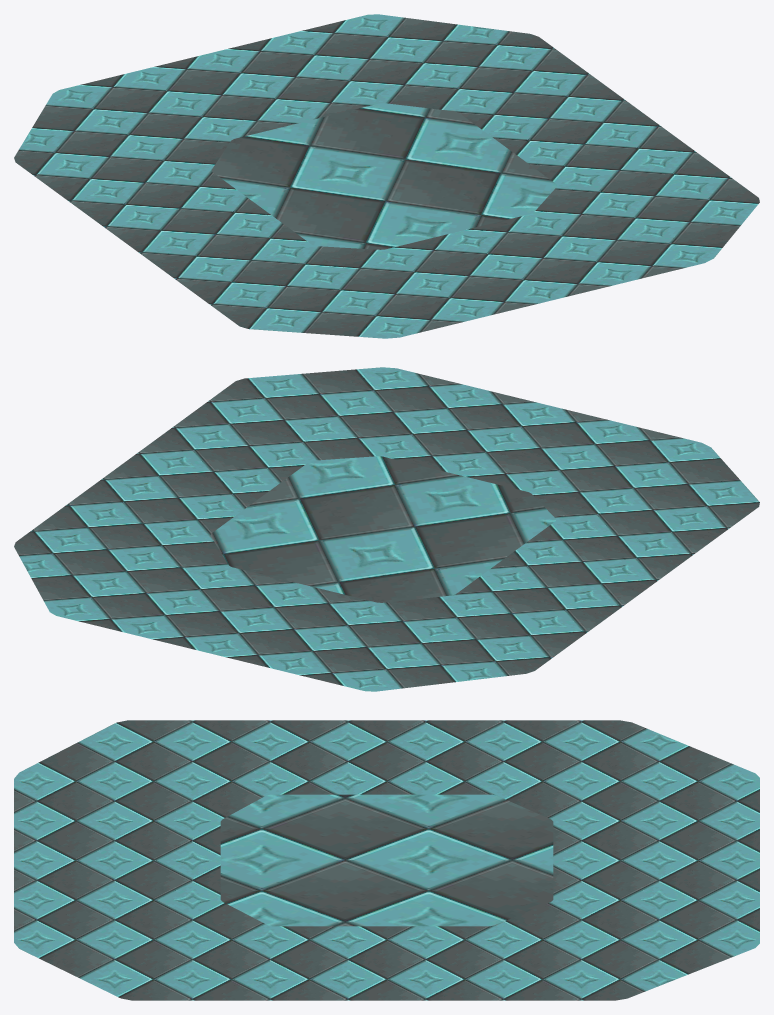
The model's file is GroundBlock.glb.
3 renders of one model, top to bottom at view 1: azimuth 30°, elevation 25°; view 2: azimuth 150°, elevation 25°; view 3: azimuth 270°, elevation 25°, orthographic. The views are drawn at different scales.
Visible parts, largest first — view 1: BattleShipKillerBossRoom.006, BattleShipKillerBossRoom.010; view 2: BattleShipKillerBossRoom.006, BattleShipKillerBossRoom.010; view 3: BattleShipKillerBossRoom.006, BattleShipKillerBossRoom.010.
Boxes of the visible parts, bbox=[...] form: BattleShipKillerBossRoom.006: bbox=[14, 14, 759, 338]; BattleShipKillerBossRoom.010: bbox=[211, 103, 556, 249]; BattleShipKillerBossRoom.006: bbox=[14, 367, 759, 691]; BattleShipKillerBossRoom.010: bbox=[210, 456, 555, 602]; BattleShipKillerBossRoom.006: bbox=[14, 720, 759, 1000]; BattleShipKillerBossRoom.010: bbox=[220, 794, 553, 926].
Size of the model in its own units: 26.73 by 0.3473 by 30.09.
Materials: 2 (2 with a texture image).
